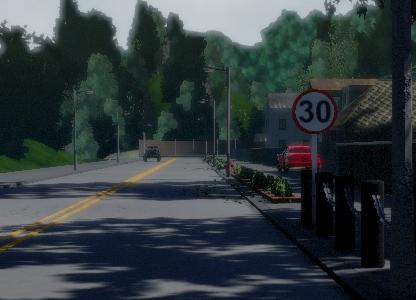Speed_30: (292, 86, 338, 136)
